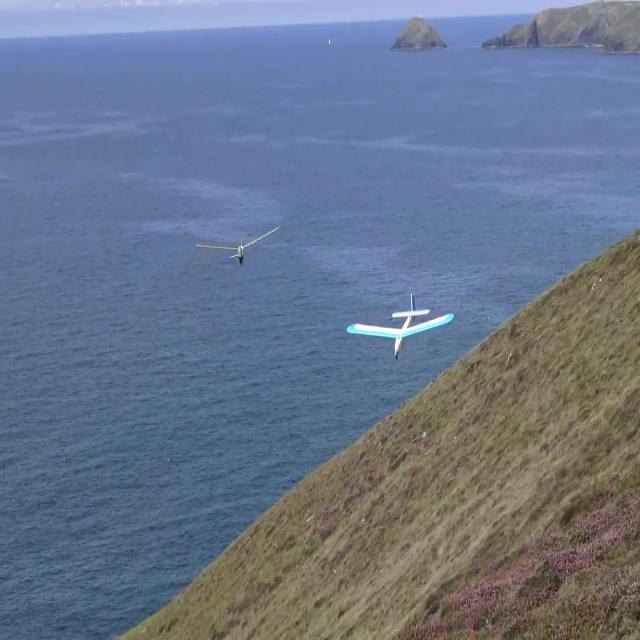iha: (228, 224, 250, 266), (379, 324, 423, 328)
